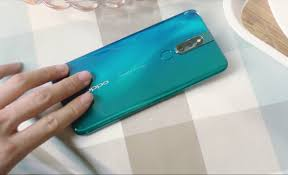oppo: (56, 6, 230, 135)
